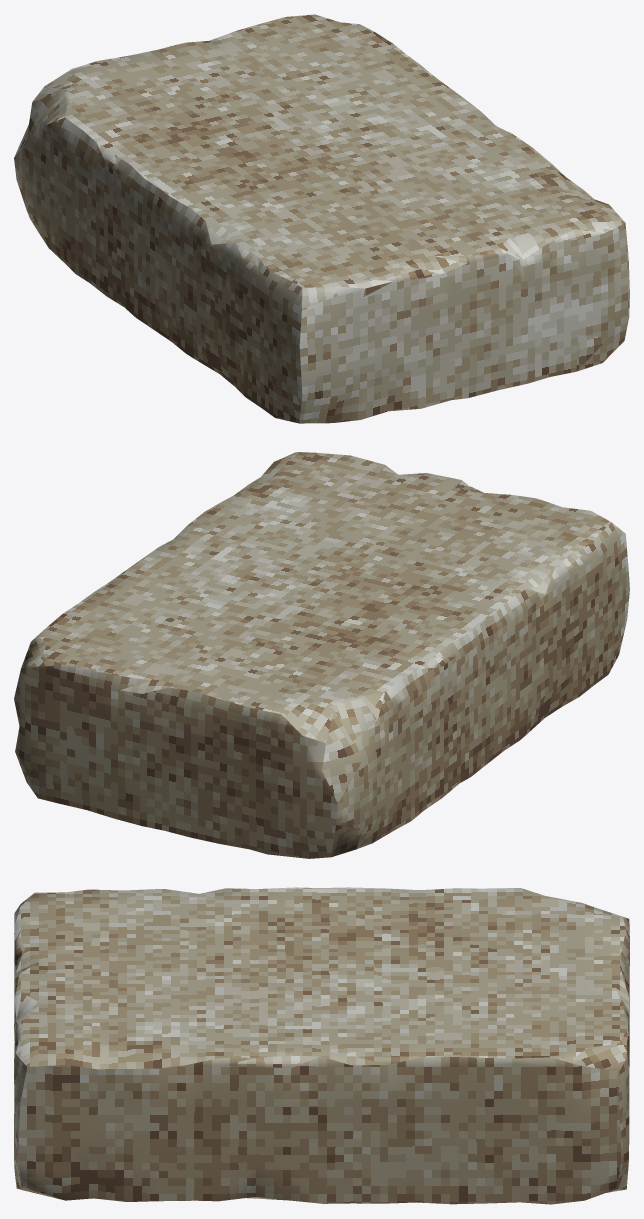
Rendered from mk_brick.glb.
The picture shows the model from 3 angles, top to bottom: view 1: azimuth 30°, elevation 25°; view 2: azimuth 150°, elevation 25°; view 3: azimuth 270°, elevation 25°; orthographic projection. The views are drawn at different scales.
Visible parts, largest first — view 1: mesh; view 2: mesh; view 3: mesh.
Boxes of the visible parts, box(x1,y1,x2,y2) form: mesh: box(14, 14, 629, 423); mesh: box(14, 452, 629, 858); mesh: box(14, 887, 629, 1204).
Bounding box in the file's own units: 0.1923 × 0.08 × 0.2913.
Materials: 1 (1 with a texture image).
